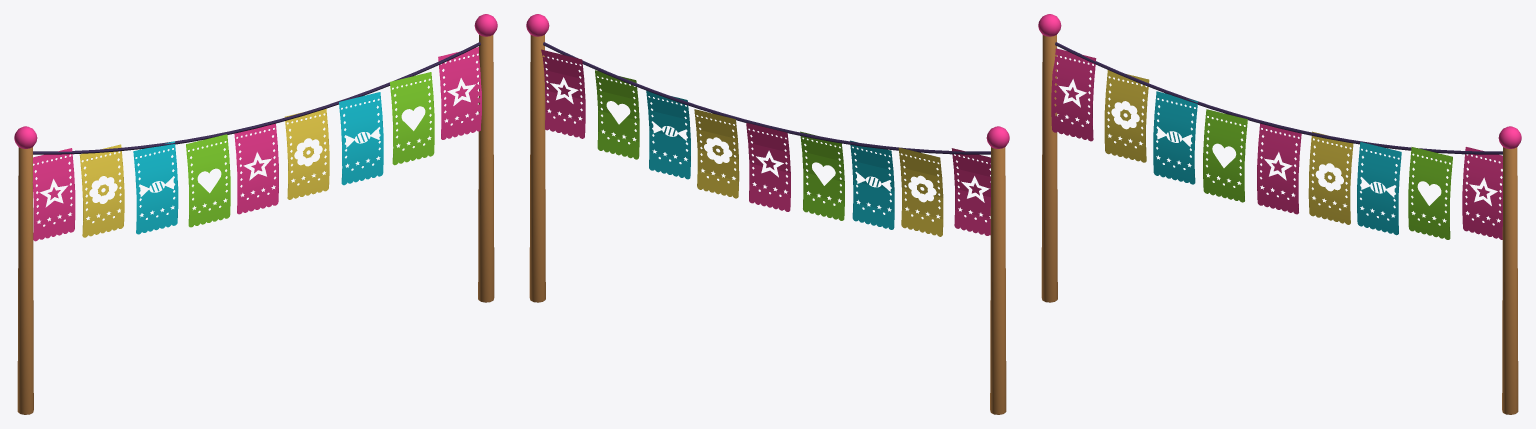
File: papel_picado_banner.obj
3 renders of one model, left to right at view 1: azimuth 30°, elevation 25°; view 2: azimuth 150°, elevation 25°; view 3: azimuth 330°, elevation 25°, orthographic.
Parts seen in each view (by area): view 1: papel_picado_Flags, papel_picado_banner; view 2: papel_picado_Flags, papel_picado_banner; view 3: papel_picado_Flags, papel_picado_banner.
Part boxes in pixels (bbox=[...]): papel_picado_Flags: bbox=[32, 47, 481, 241]; papel_picado_banner: bbox=[14, 14, 497, 414]; papel_picado_Flags: bbox=[541, 49, 990, 236]; papel_picado_banner: bbox=[526, 14, 1009, 414]; papel_picado_Flags: bbox=[1051, 48, 1502, 239]; papel_picado_banner: bbox=[1038, 14, 1521, 414].
Bounding box in the file's own units: 16.7 × 9.45 × 0.7.
2 materials, 2 textured.
